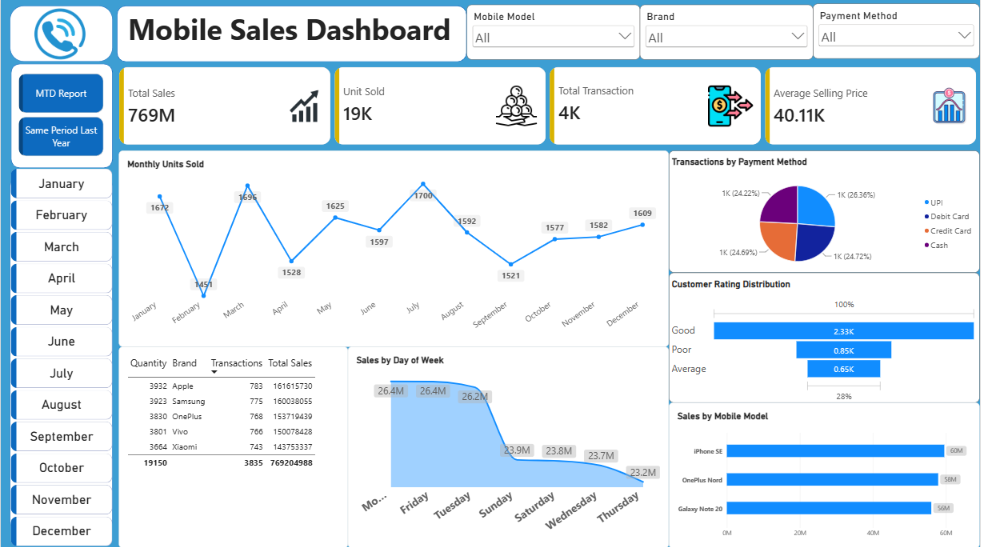

What the dashboard file says about the page in this screenshot:
{"tool":"powerbi","page":{"name":"Dashboard","canvas":[1920,1080],"ordinal":0},"visuals":[{"type":"shape","box":[227.2,15.1,686,110.4],"z":0},{"type":"shape","box":[18,16,202,110],"z":1000},{"type":"image","box":[60,10,110,126],"z":2000},{"type":"shape","box":[20,130,200,205],"z":3000},{"type":"shape","box":[18.3,350,201.7,693.3],"z":4000},{"type":"advancedSlicerVisual","fields":{"Values":["Custom_Calendar.Date.Variation.Date Hierarchy.Month"]},"box":[19.8,336.2,199.6,744.3],"z":5000},{"type":"cardVisual","fields":{"Data":["Sales_Data.Total_sales","Sales_Data.Total Quantity","Sales_Data.Total_Transaction","Sales_Data.Avg_price"]},"box":[227.8,130.6,1692.4,162.3],"z":6000},{"type":"slicer","fields":{"Values":["Sales_Data.Mobile Model"]},"box":[913.3,13,339.8,108.2],"z":7000},{"type":"slicer","fields":{"Values":["Sales_Data.Payment Method"]},"box":[1592.8,12.6,327.2,107.9],"z":8000},{"type":"slicer","fields":{"Values":["Sales_Data.Brand"]},"box":[1253,13,339.8,108.2],"z":9000},{"type":"textbox","box":[322.5,335.4,259.7,142.8],"z":10000},{"type":"textbox","box":[240.2,21.6,649.2,86.6],"z":11000},{"type":"lineChart","title":"Monthly Units Sold","fields":{"Category":["Custom_Calendar.Date.Variation.Date Hierarchy.Month"],"Y":["Sales_Data.Total Quantity"]},"box":[231.9,300.2,1078.7,384.7],"z":12000},{"type":"funnel","title":"Customer Rating Distribution","fields":{"Category":["Sales_Data.Rating_status"],"Y":["CountNonNull(Sales_Data.Rating_status)"]},"box":[1310.6,539.3,609.4,255.3],"z":13000},{"type":"pieChart","title":"Transactions by Payment Method","fields":{"Category":["Sales_Data.Payment Method"],"Y":["Sales_Data.Total_Transaction"]},"box":[1310.6,300.2,609.4,239.1],"z":14000},{"type":"clusteredBarChart","title":"Sales by Mobile Model","fields":{"Category":["Sales_Data.Mobile Model"],"Y":["Sales_Data.Total_sales"]},"box":[1310.6,794.6,609.4,285.8],"z":15000},{"type":"areaChart","title":"Sales by Day of Week","fields":{"Category":["Custom_Calendar.Day Name"],"Y":["Sales_Data.Total_sales"]},"box":[681.3,684.9,629.2,395.5],"z":16000},{"type":"tableEx","fields":{"Values":["Sales_Data.Total Quantity","Sales_Data.Brand","Sales_Data.Total_Transaction","Sales_Data.Total_sales"]},"box":[231.9,684.9,449.4,395.5],"z":17000},{"type":"pageNavigator","box":[34.6,149.3,166.6,162.3],"z":18000}]}

Visuals, with their boxes in screenshot pixels (x1, y1, x2, y2), scaled from the page's 1920x1080 canvas onto the 981x547 screenshot:
shape: bbox=[116, 8, 467, 64]
shape: bbox=[9, 8, 112, 64]
image: bbox=[31, 5, 87, 69]
shape: bbox=[10, 66, 112, 170]
shape: bbox=[9, 177, 112, 528]
advancedSlicerVisual - Custom_Calendar.Date.Variation.Date Hierarchy.Month: bbox=[10, 170, 112, 546]
cardVisual - Sales_Data.Total_sales x Sales_Data.Total Quantity: bbox=[116, 66, 980, 148]
slicer - Sales_Data.Mobile Model: bbox=[467, 7, 640, 61]
slicer - Sales_Data.Payment Method: bbox=[814, 6, 980, 61]
slicer - Sales_Data.Brand: bbox=[640, 7, 814, 61]
textbox: bbox=[165, 170, 297, 242]
textbox: bbox=[123, 11, 454, 55]
"Monthly Units Sold" lineChart: bbox=[118, 152, 670, 347]
"Customer Rating Distribution" funnel: bbox=[670, 273, 980, 402]
"Transactions by Payment Method" pieChart: bbox=[670, 152, 980, 273]
"Sales by Mobile Model" clusteredBarChart: bbox=[670, 402, 980, 546]
"Sales by Day of Week" areaChart: bbox=[348, 347, 670, 546]
tableEx - Sales_Data.Total Quantity x Sales_Data.Brand: bbox=[118, 347, 348, 546]
pageNavigator: bbox=[18, 76, 103, 158]
